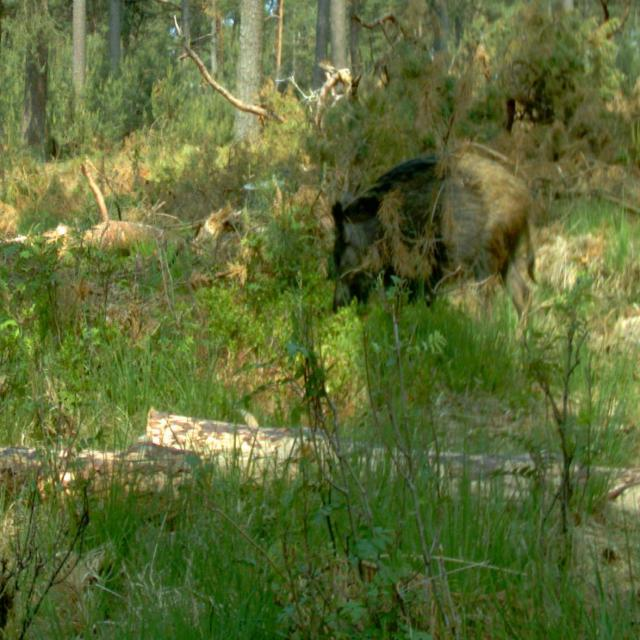pig: (271, 90, 566, 356)
